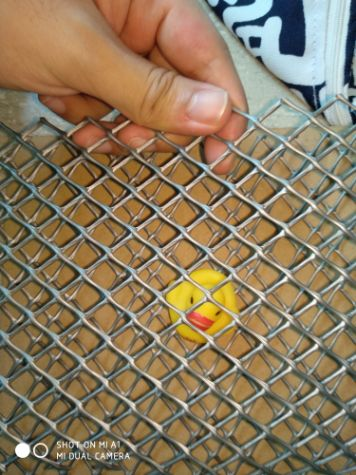unknownObject: (165, 269, 240, 343)
